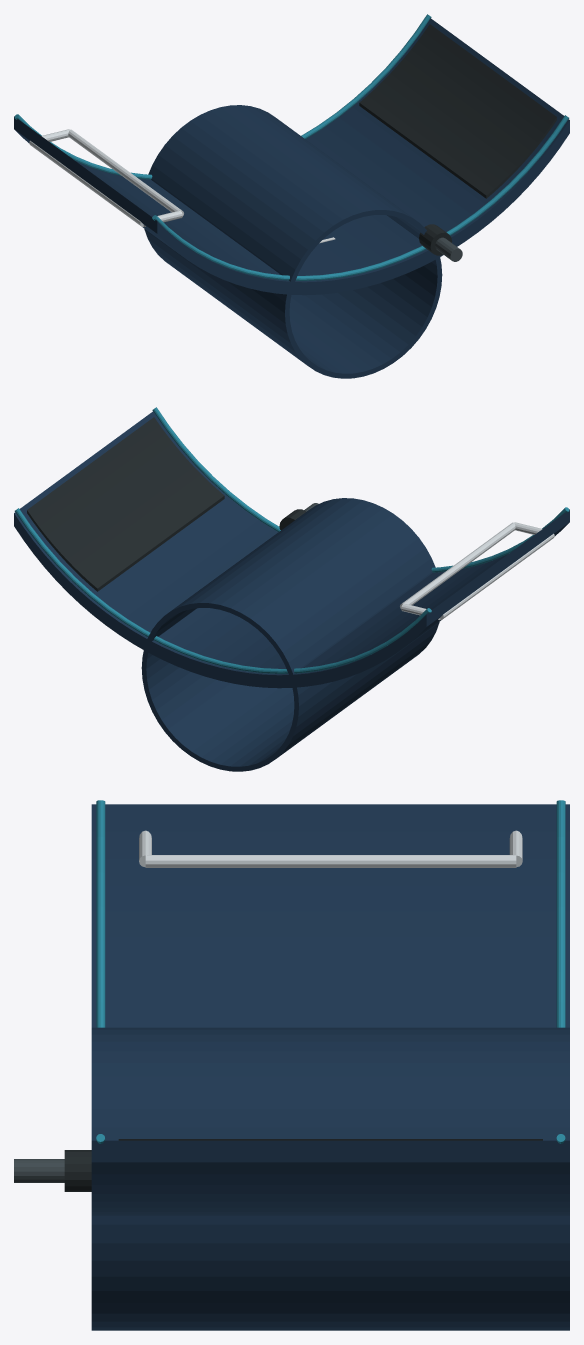
File: bp_cuff.fbx
3 renders of one model, top to bottom at view 1: azimuth 30°, elevation 25°; view 2: azimuth 150°, elevation 25°; view 3: azimuth 270°, elevation 25°, orthographic. The views are drawn at different scales.
Parts seen in each view (by area): view 1: EQ_bp_cuff_Wrapped, EQ_bp_cuff_Body, EQ_bp_cuff_Closure; view 2: EQ_bp_cuff_Wrapped, EQ_bp_cuff_Body, EQ_bp_cuff_Closure; view 3: EQ_bp_cuff_Body, EQ_bp_cuff_Wrapped, EQ_bp_cuff_Closure.
Boxes of the visible parts, x1=… form: EQ_bp_cuff_Wrapped: x1=144, y1=105, x2=442, y2=378; EQ_bp_cuff_Body: x1=14, y1=14, x2=569, y2=295; EQ_bp_cuff_Closure: x1=359, y1=24, x2=556, y2=198; EQ_bp_cuff_Wrapped: x1=141, y1=498, x2=439, y2=771; EQ_bp_cuff_Body: x1=14, y1=407, x2=569, y2=688; EQ_bp_cuff_Closure: x1=27, y1=417, x2=224, y2=591; EQ_bp_cuff_Body: x1=14, y1=800, x2=569, y2=1215; EQ_bp_cuff_Wrapped: x1=91, y1=1027, x2=569, y2=1330; EQ_bp_cuff_Closure: x1=118, y1=1139, x2=542, y2=1140.
Size of the model in its own units: 0.2686 by 0.129 by 0.186.
